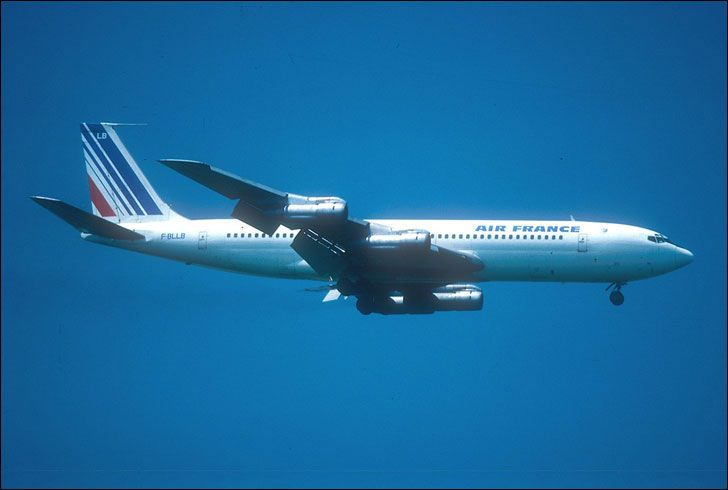Aeronef_commercial: (29, 114, 700, 345)
